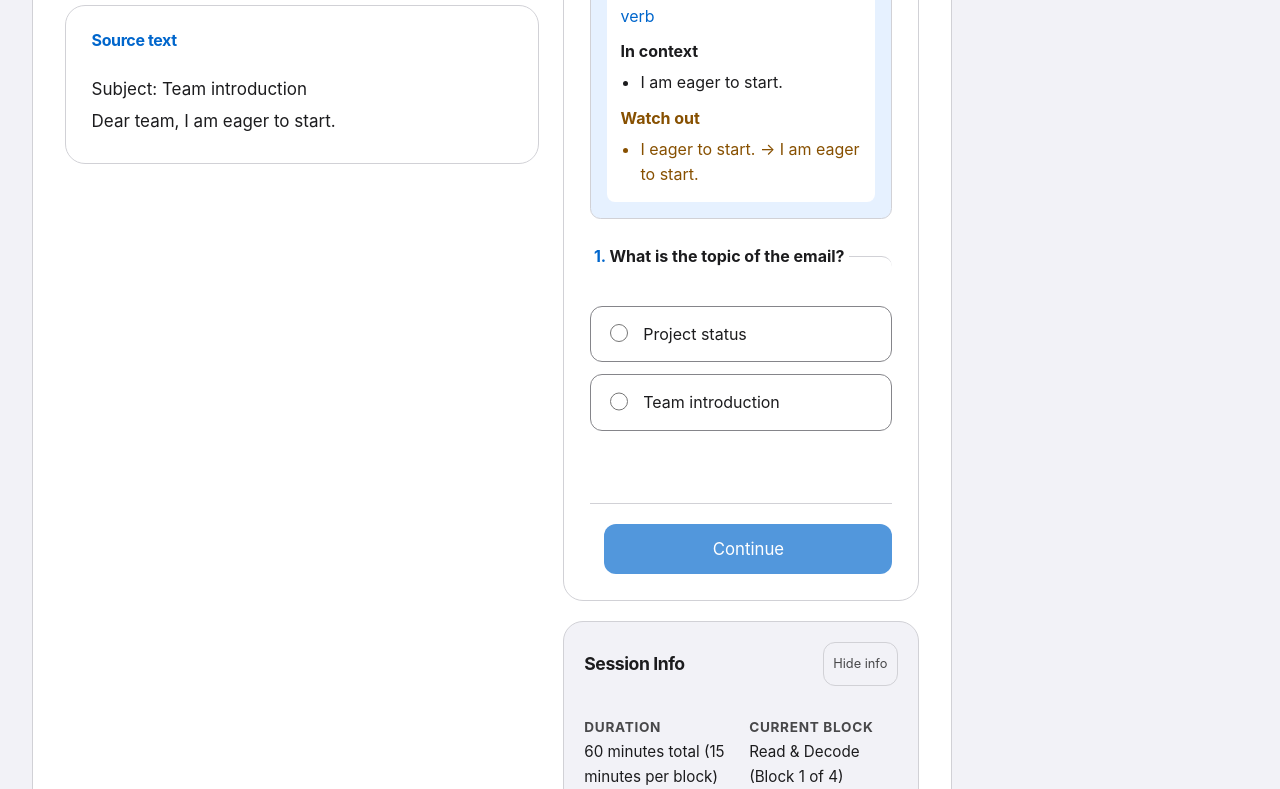
it: SessionShell and Activity Renderers › keeps Continue button disabled until current activity satisfies completion rule
This screenshot has width=1280, height=789.
(page scrolled)
Expected: the button "Continue" is disabled, [604,524,892,574]
# Select the question answer
Click the radio button labelled "Team introduction" at [619, 401], box [610,392,628,410]
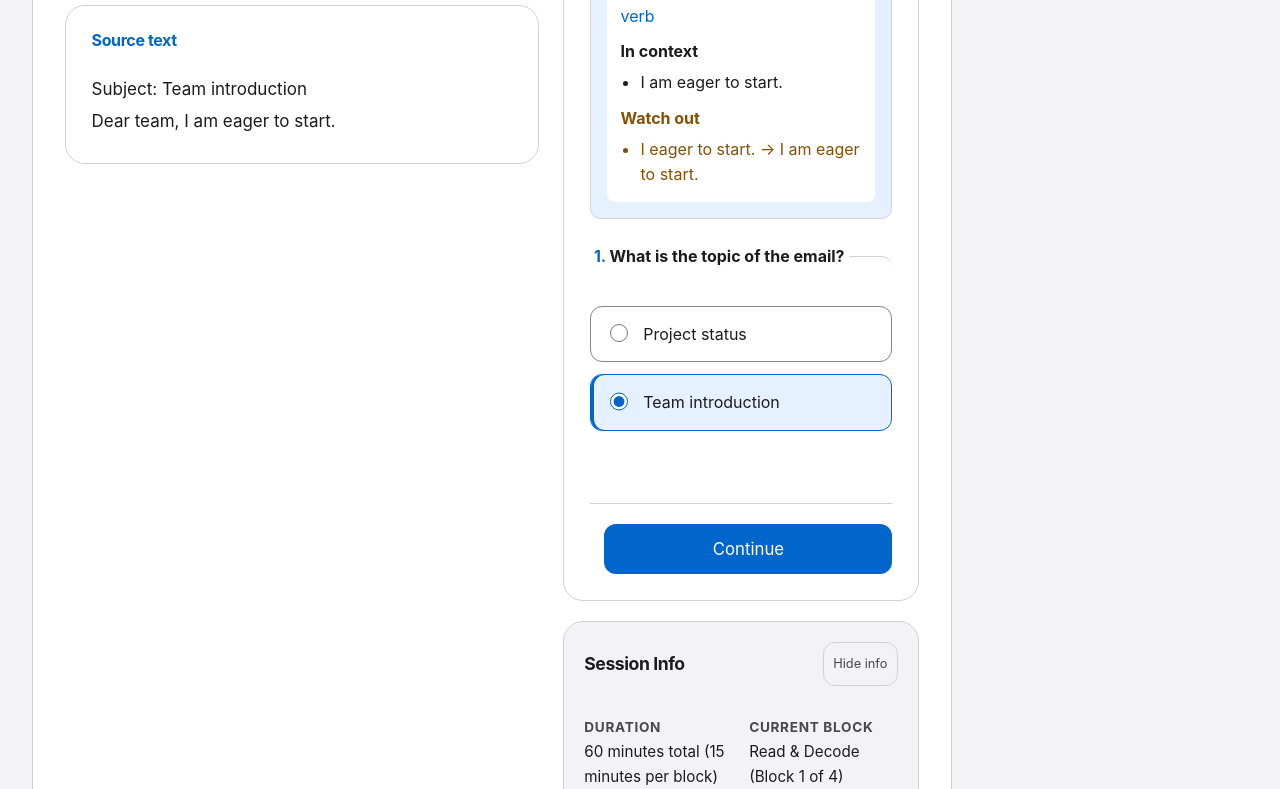
Now the button "Continue" is enabled, box [604,524,892,574]
